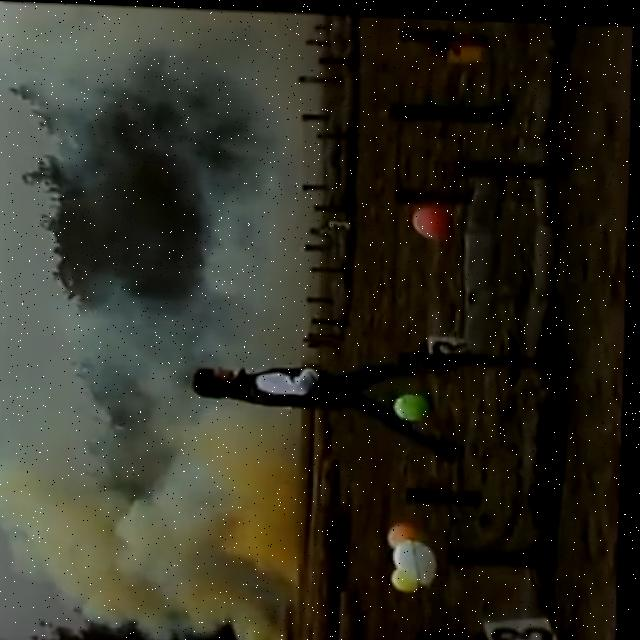balloon: (396, 536, 445, 585), (410, 201, 454, 238), (390, 520, 437, 547), (392, 391, 437, 414), (386, 563, 419, 593)
